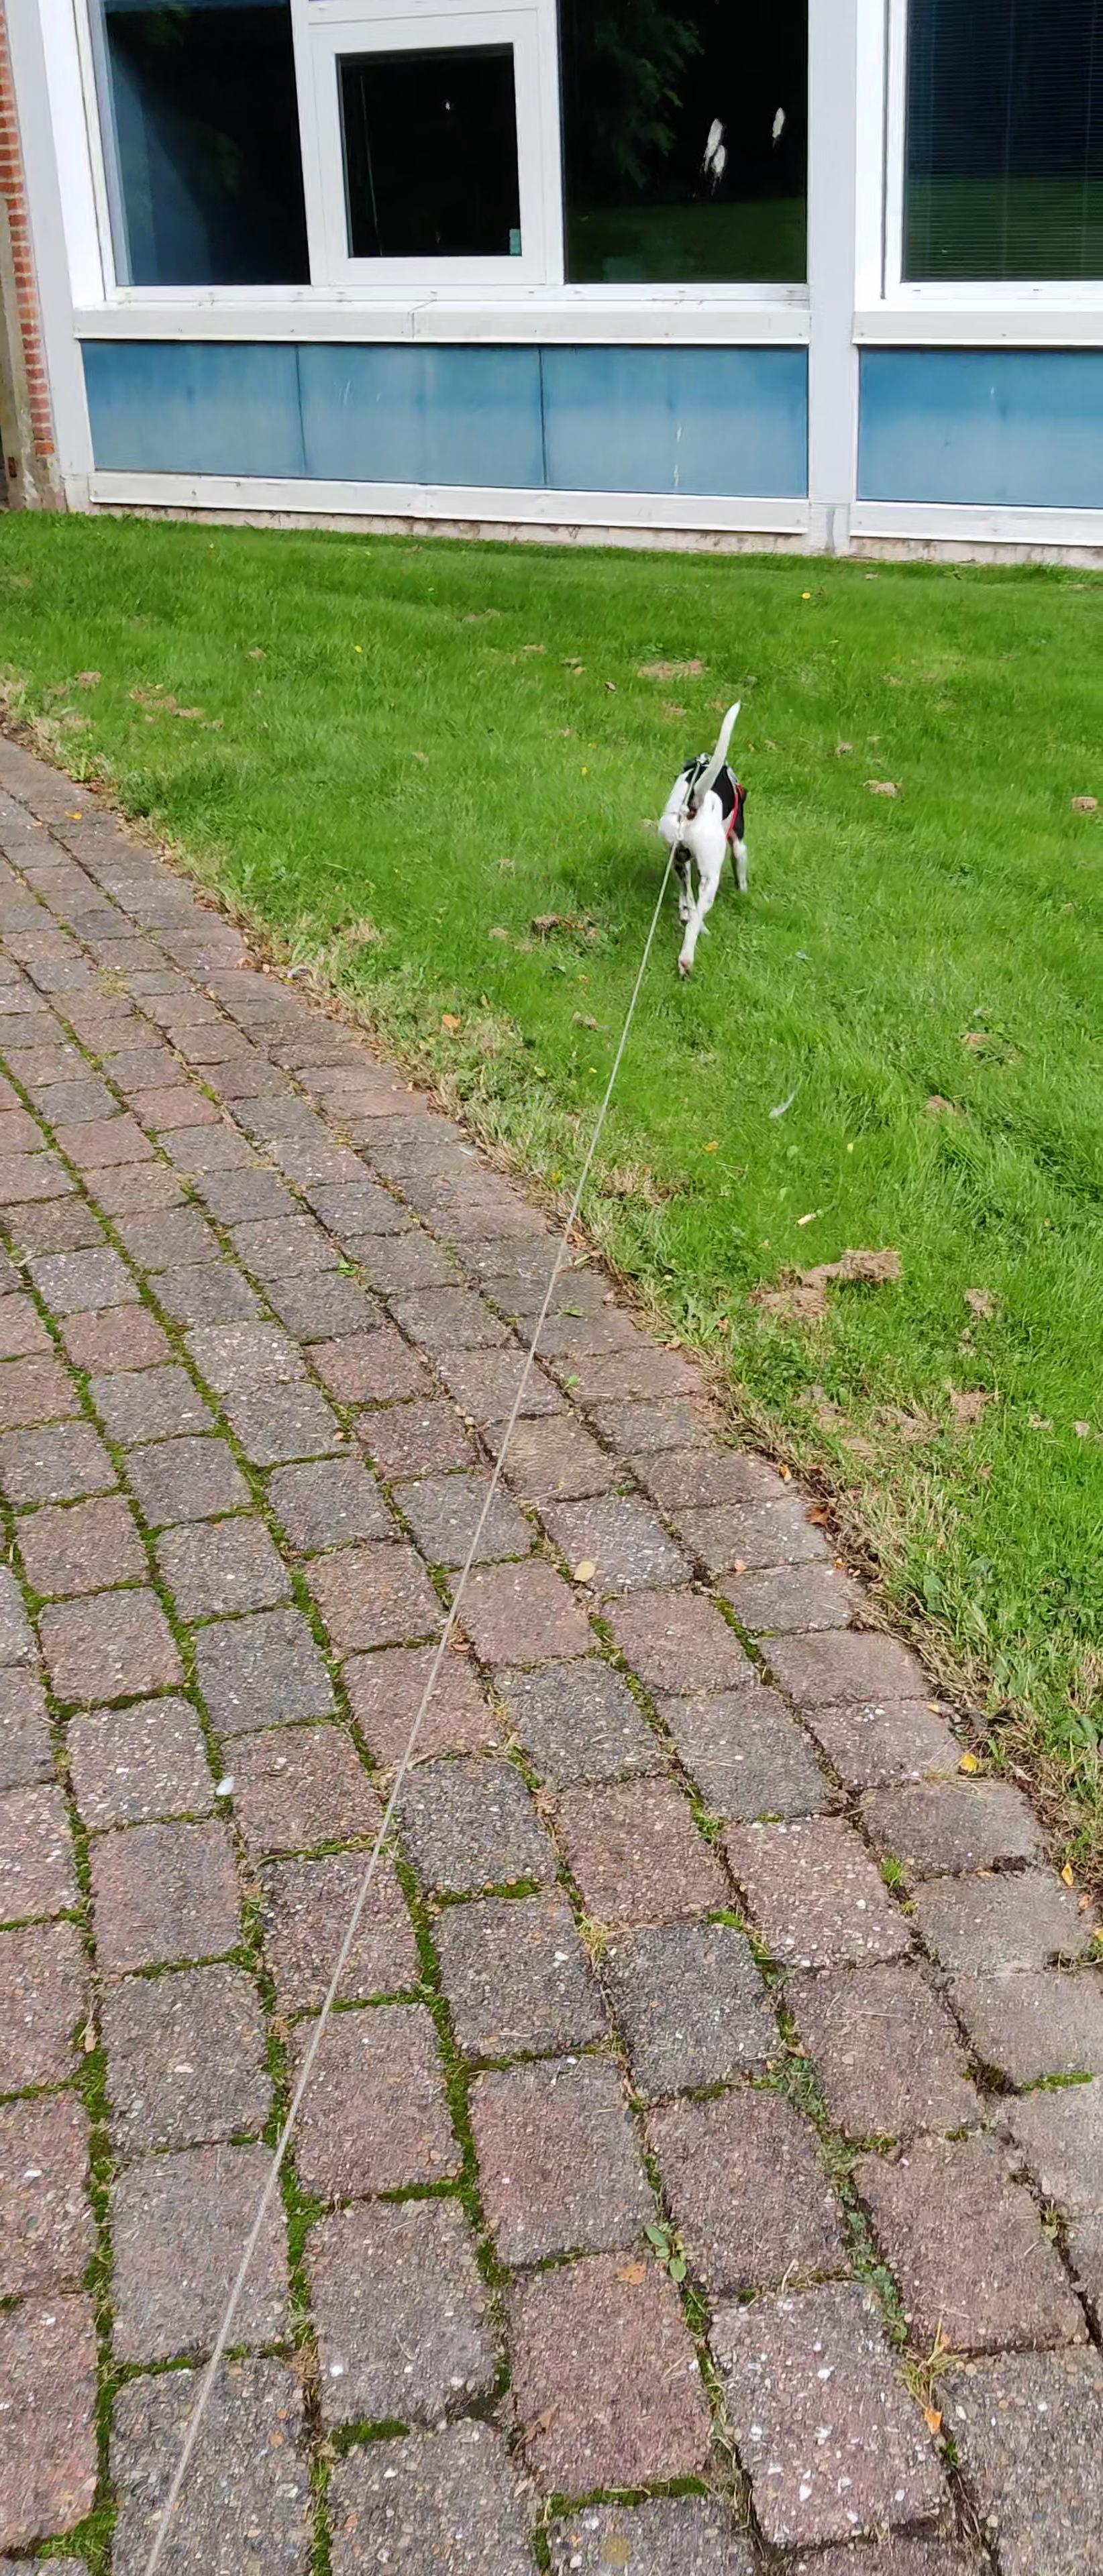Dog: (649, 695, 751, 981)
